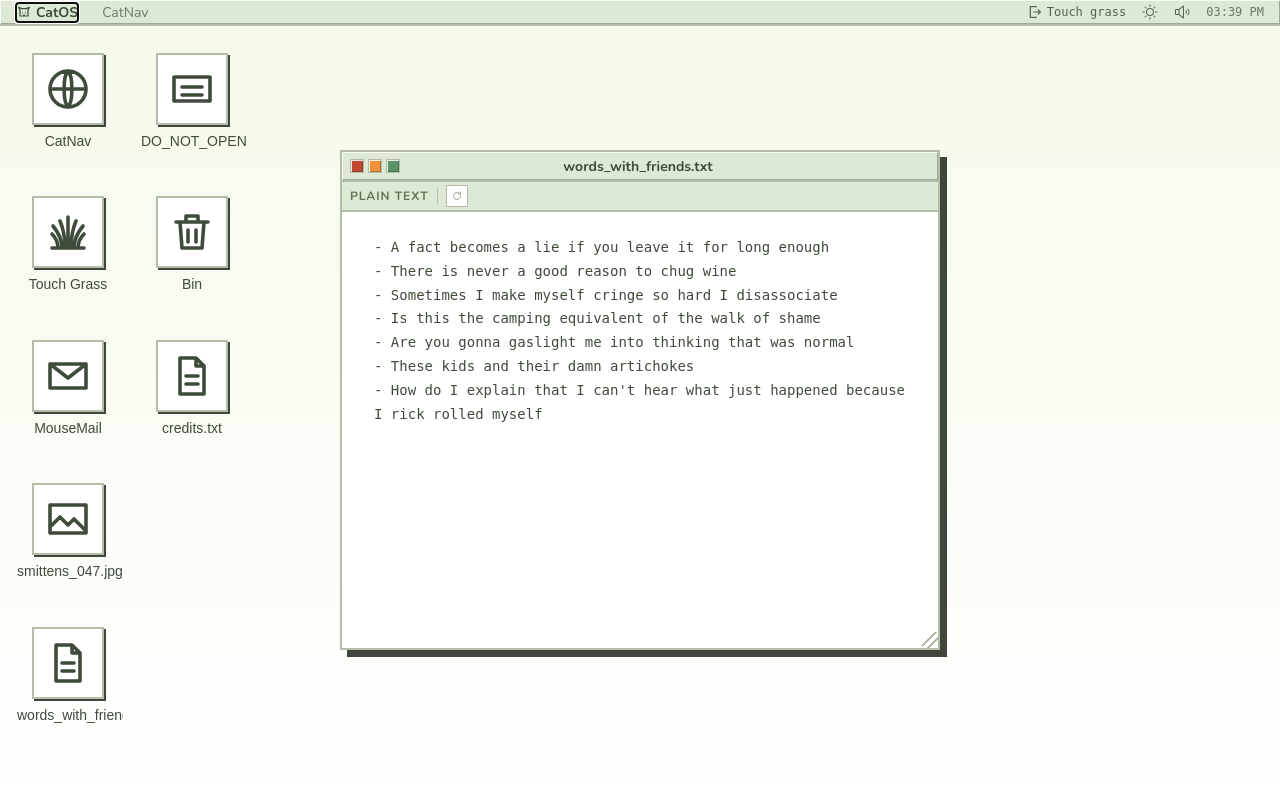
LaptopScreenOverlay (CatOS) › the cat menu › drops the Esc hint while a window is open, since Escape closes that first
Click the button with aria-label "CatOS menu" at [47, 12], box [16,2,78,22]
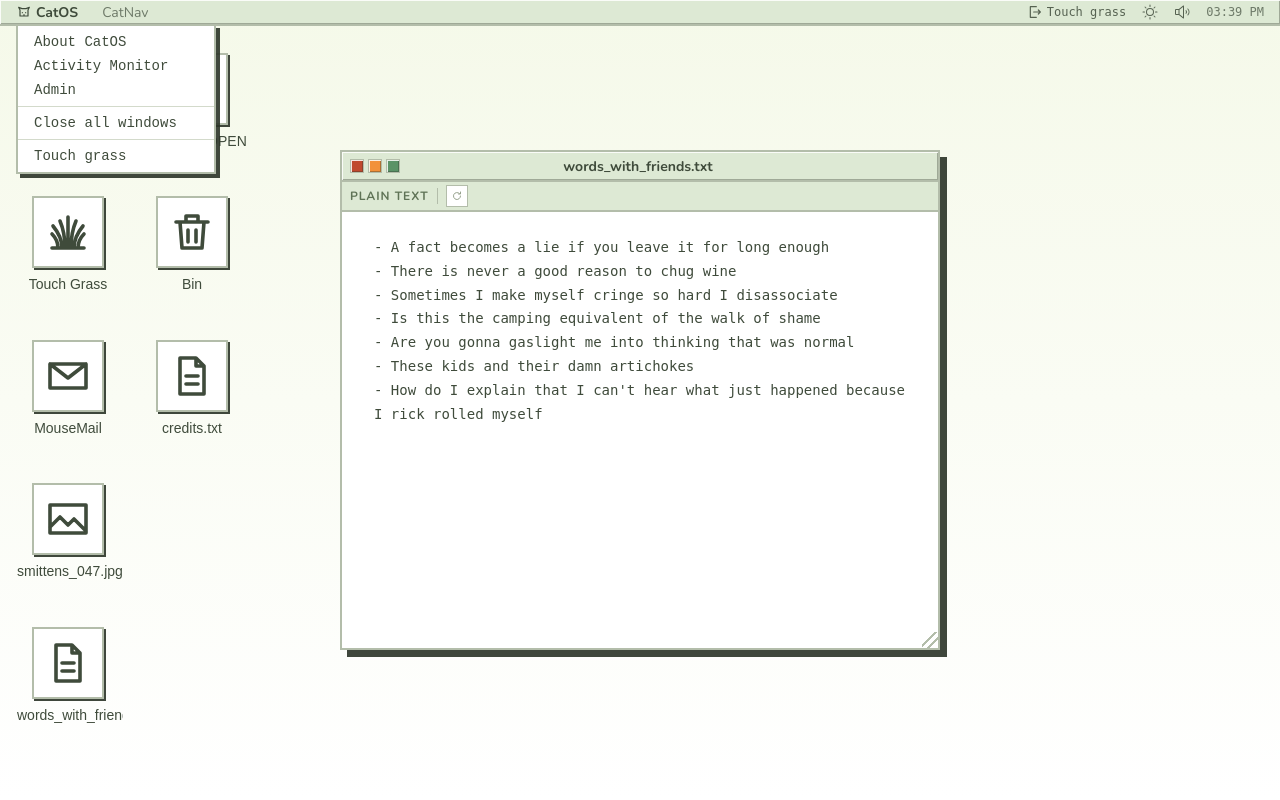
Check: the menu item "Touch grass" is shown, box [34,148,126,164]
